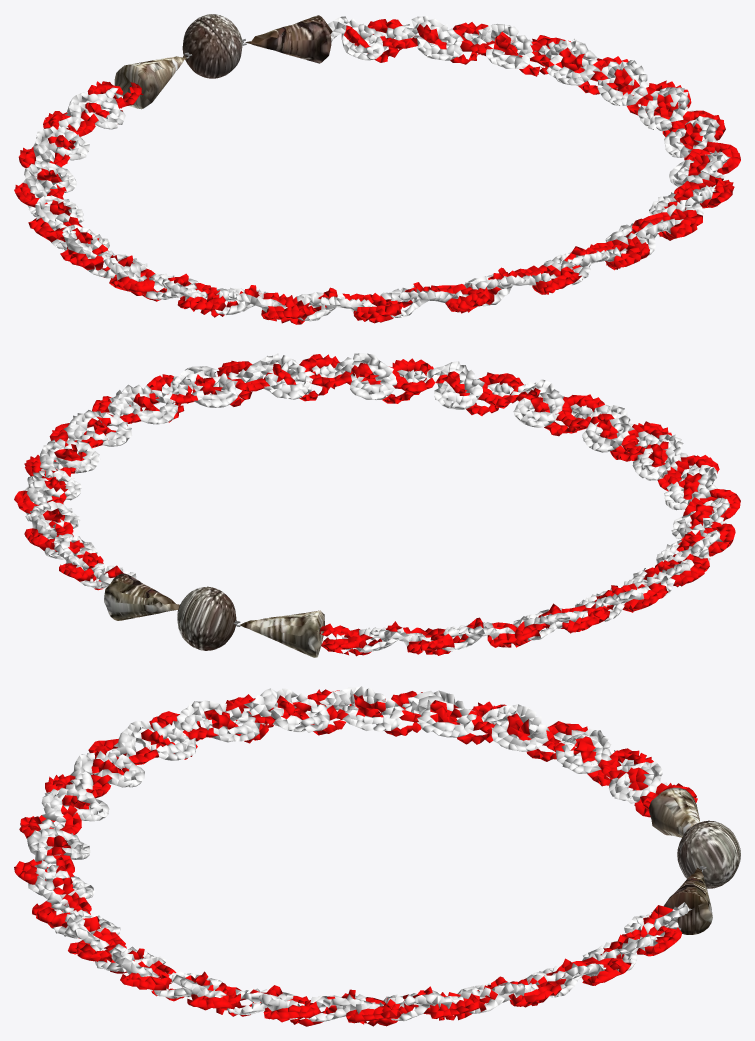
Rendered from kolyeBlendShape.fbx.
3 views of the same model, one above another, from view 1: azimuth 30°, elevation 25°; view 2: azimuth 150°, elevation 25°; view 3: azimuth 270°, elevation 25° (orthographic). The views are drawn at different scales.
Parts seen in each view (by area): view 1: RANTAI, pSphere1; view 2: RANTAI, pSphere1; view 3: RANTAI, pSphere1.
Part boxes in pixels (bbox=[...]): RANTAI: bbox=[14, 15, 740, 324]; pSphere1: bbox=[182, 14, 242, 78]; RANTAI: bbox=[14, 353, 740, 657]; pSphere1: bbox=[177, 586, 236, 650]; RANTAI: bbox=[14, 686, 712, 1026]; pSphere1: bbox=[677, 820, 740, 888].
Bounding box in the file's own units: 58.21 × 5.26 × 54.56.
